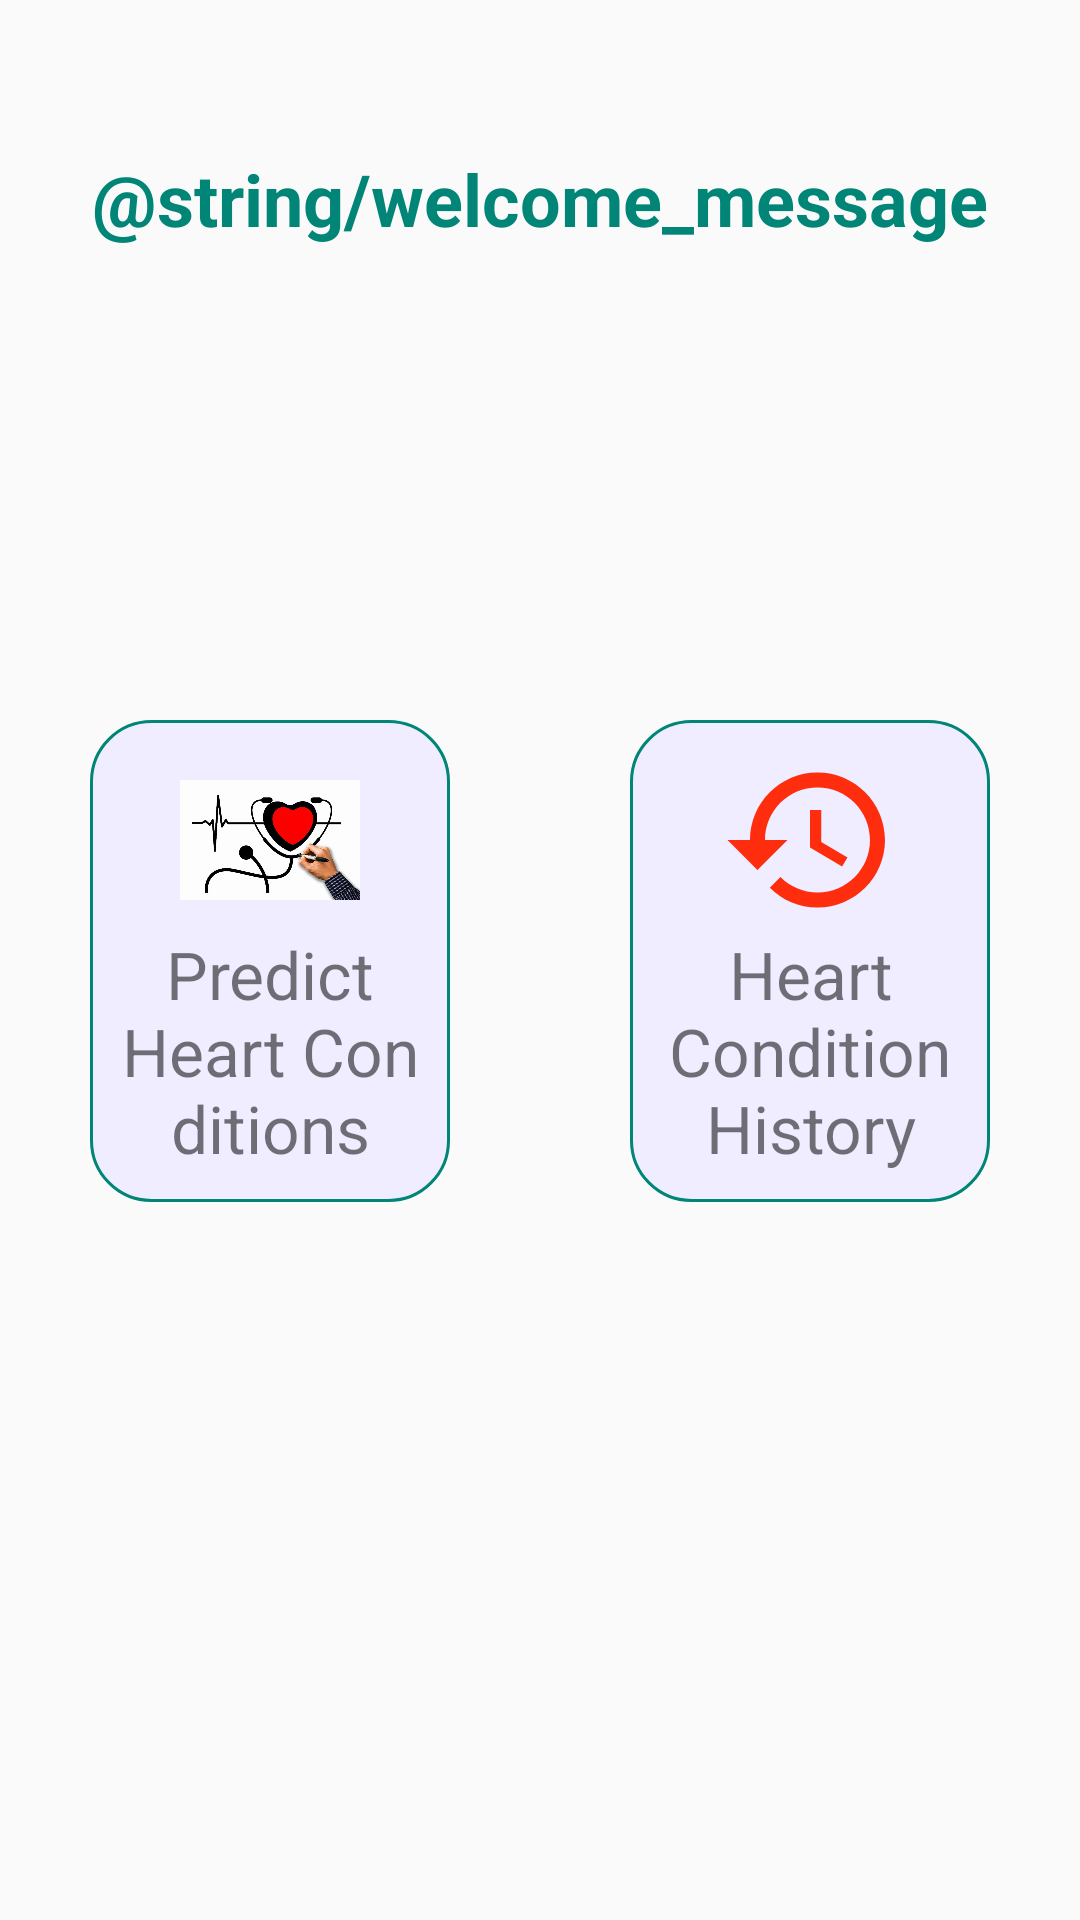

Where icons sit on this 1080px×1920px app screen, as (x1, y1, x2, y2):
heart rate: (180, 780, 360, 900)
